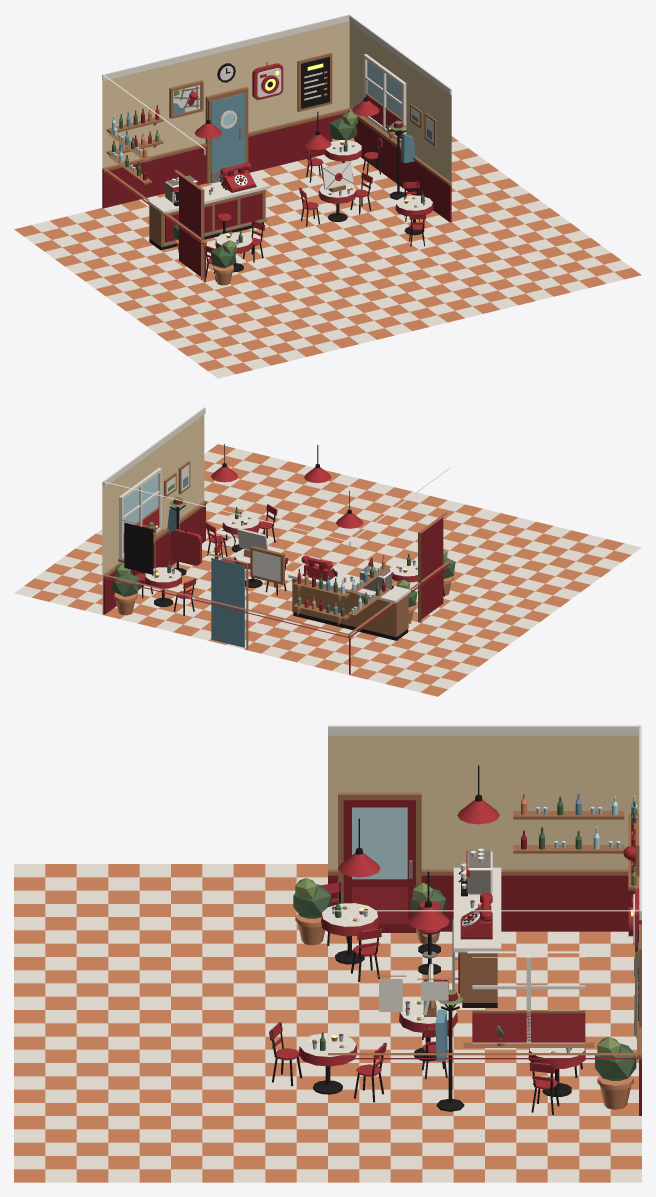
File: interior.glb
3 renders of one model, top to bottom at view 1: azimuth 30°, elevation 25°; view 2: azimuth 150°, elevation 25°; view 3: azimuth 270°, elevation 25°, orthographic. The views are drawn at different scales.
Parts seen in each view (by area): view 1: interior_static, spot_map, spot_insta, spot_phone, spot_mail; view 2: interior_static, spot_map, spot_insta, spot_phone, spot_mail; view 3: interior_static, spot_phone.
Boxes of the visible parts, bbox=[...] form: interior_static: bbox=[14, 14, 641, 378]; spot_map: bbox=[169, 80, 203, 118]; spot_insta: bbox=[252, 62, 283, 99]; spot_phone: bbox=[219, 162, 256, 192]; spot_mail: bbox=[322, 161, 353, 192]; interior_static: bbox=[14, 407, 641, 696]; spot_map: bbox=[250, 546, 284, 584]; spot_insta: bbox=[171, 529, 201, 565]; spot_phone: bbox=[301, 555, 337, 581]; spot_mail: bbox=[237, 528, 268, 557]; interior_static: bbox=[14, 725, 641, 1182]; spot_phone: bbox=[460, 892, 492, 939].
Size of the model in its own units: 12 by 3.6 by 10.
